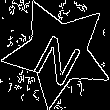N_NE: (29, 21, 88, 84)
